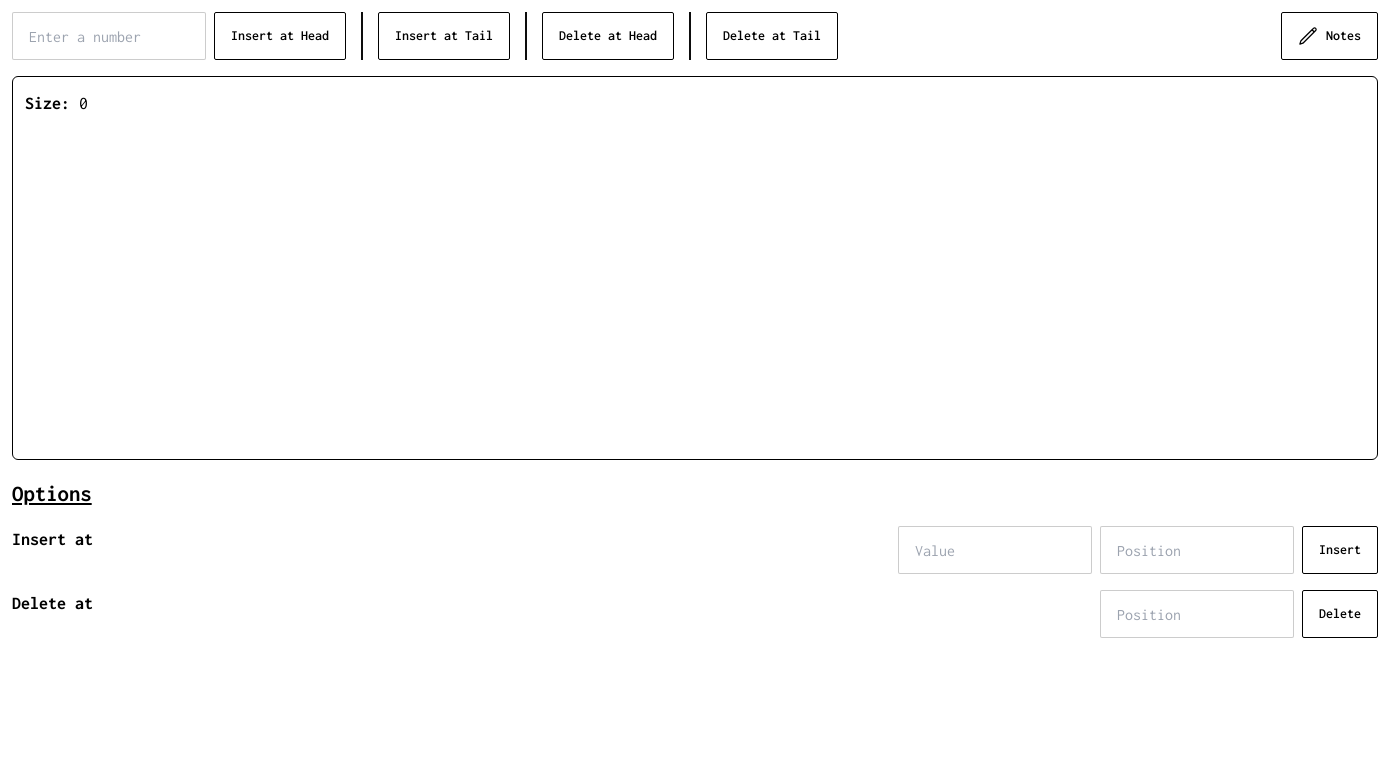
Scenario: SinglyLinkedList › should update state when pushing a new element
In the field with placeholder "Enter a number": x=109, y=36 x1=12 y1=12 x2=206 y2=60, type "5"
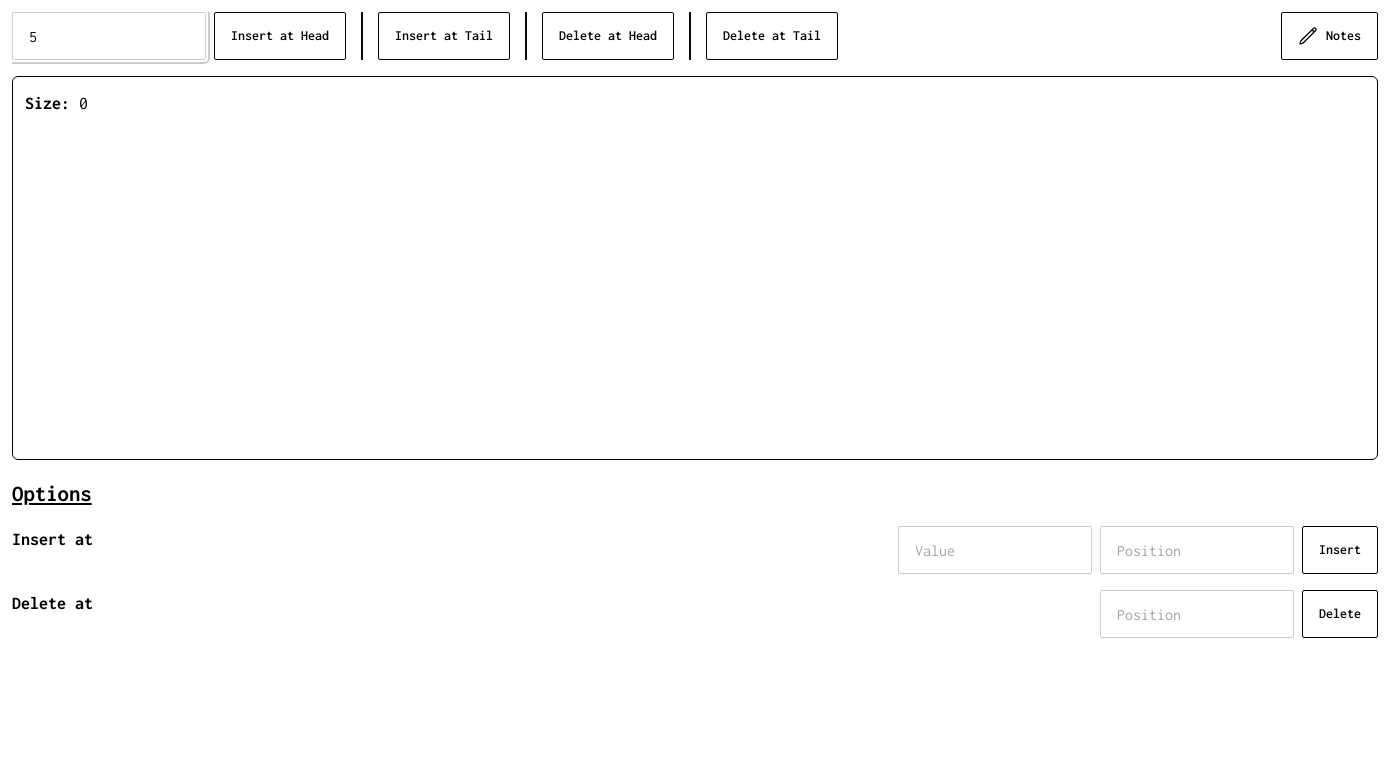
Click the button "Insert at Head": x=280, y=36 x1=214 y1=12 x2=346 y2=60
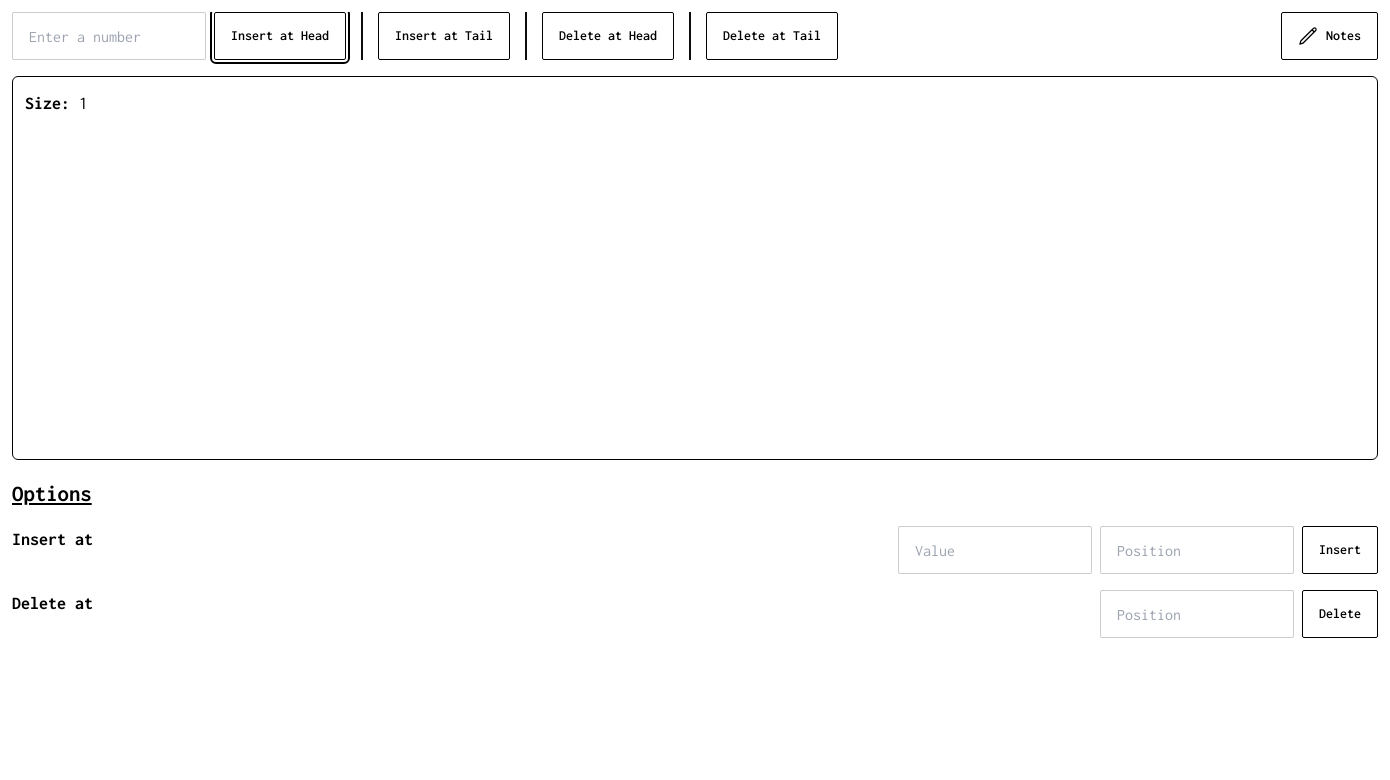
Result: the element with test id "size" shows "1" at x1=79 y1=94 x2=88 y2=112
